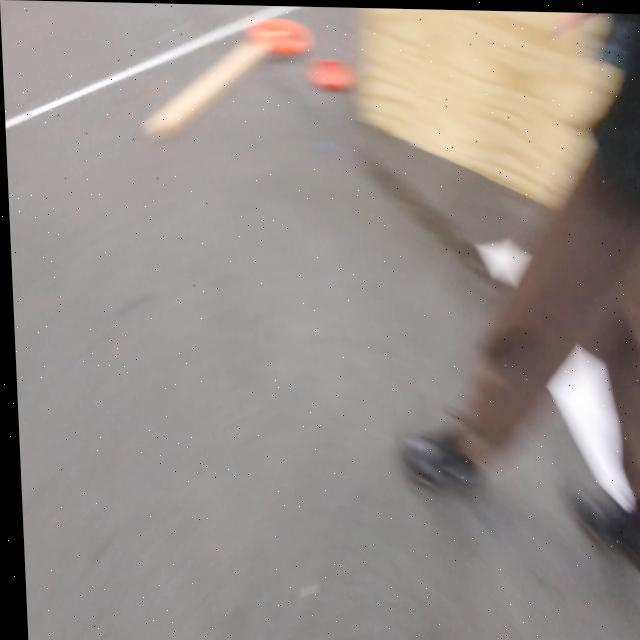note: (242, 14, 318, 52)
